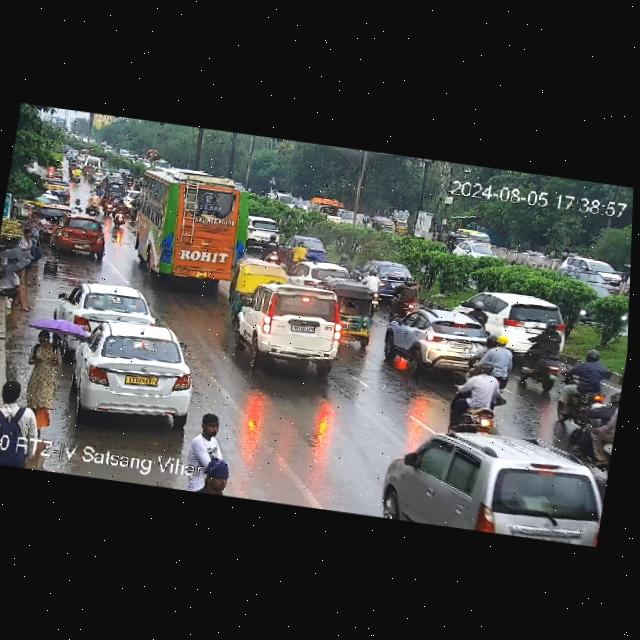bus: (124, 159, 260, 294)
car: (378, 421, 612, 547), (62, 312, 203, 424), (234, 277, 342, 373), (378, 301, 495, 374), (452, 283, 582, 345), (57, 279, 160, 334), (451, 356, 512, 433), (324, 276, 379, 351), (226, 253, 284, 313), (562, 251, 631, 298), (359, 257, 420, 301), (50, 213, 110, 257), (287, 256, 348, 290), (281, 234, 330, 263), (244, 215, 283, 248), (358, 214, 409, 238)
motorcycle: (518, 319, 571, 393), (553, 379, 622, 430), (555, 349, 616, 402), (473, 332, 519, 386), (99, 173, 128, 204), (260, 232, 282, 263), (120, 166, 144, 186), (112, 196, 127, 227), (117, 168, 138, 189), (85, 191, 102, 215), (102, 188, 115, 216), (336, 251, 352, 267), (71, 165, 82, 184), (81, 161, 92, 178), (46, 167, 56, 176)
person: (19, 326, 64, 426), (0, 376, 38, 434), (190, 411, 229, 467), (201, 451, 240, 496), (0, 268, 38, 313), (19, 227, 39, 254), (27, 209, 45, 221), (71, 198, 85, 212)
